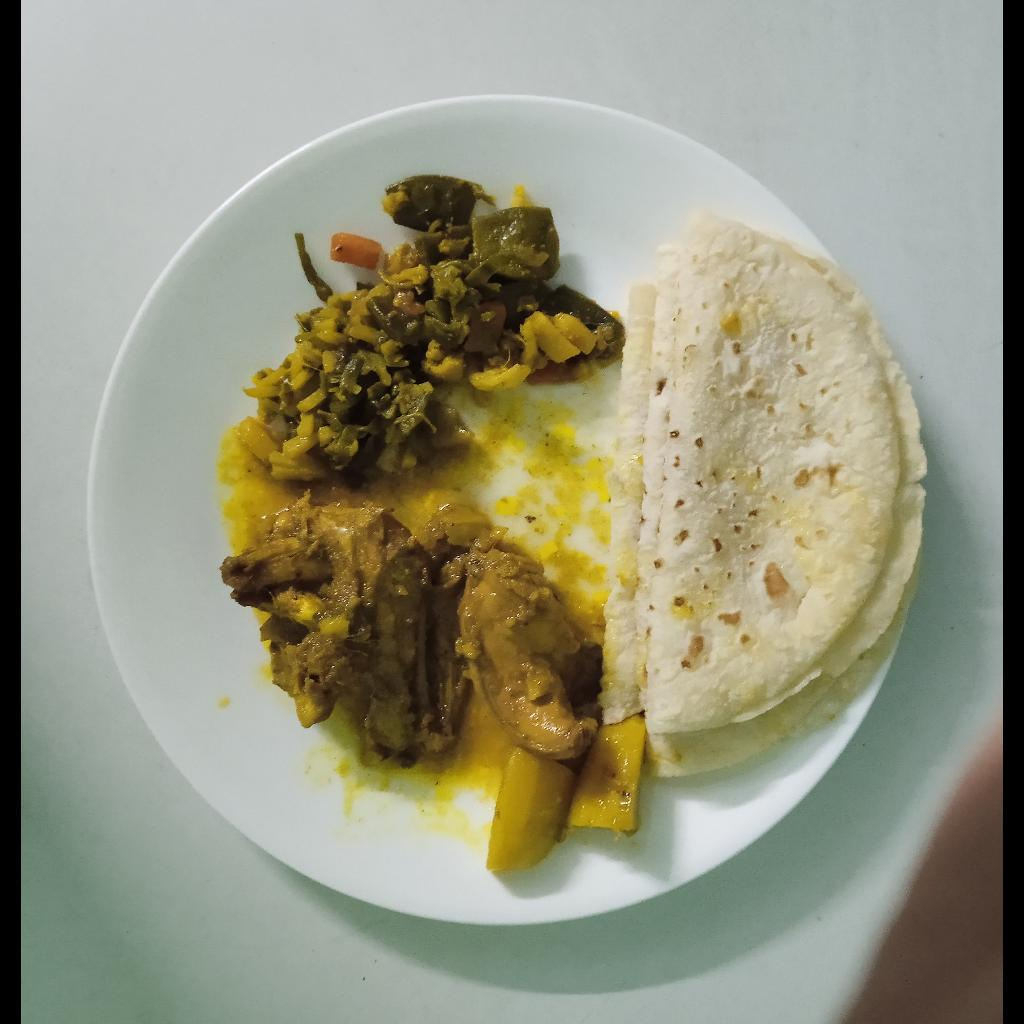chicken: (222, 493, 597, 761)
potato: (486, 719, 643, 873)
ruti: (600, 206, 927, 779)
vegetable: (232, 175, 620, 484)
